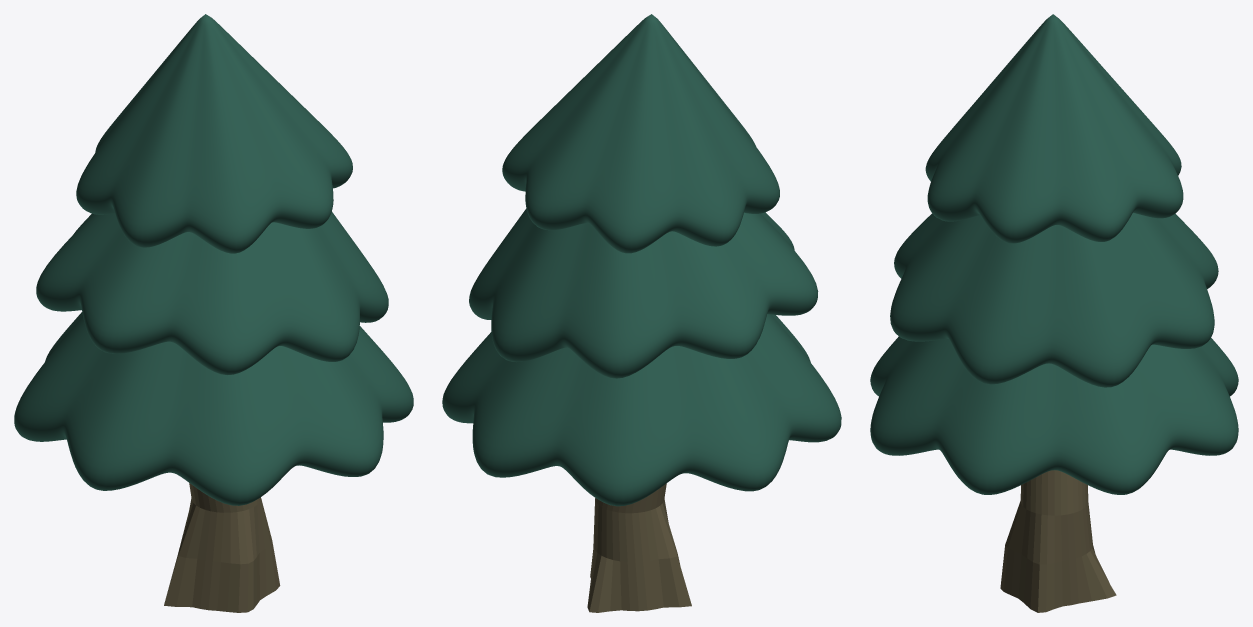
The model's file is tree2.fbx.
The picture shows the model from 3 angles, left to right: view 1: azimuth 30°, elevation 25°; view 2: azimuth 150°, elevation 25°; view 3: azimuth 270°, elevation 25°; orthographic projection. The views are drawn at different scales.
Parts seen in each view (by area): view 1: Circle, Cylinder.001; view 2: Circle, Cylinder.001; view 3: Circle, Cylinder.001.
Boxes of the visible parts, x1=… form: Circle: x1=14, y1=14, x2=413, y2=505; Cylinder.001: x1=164, y1=483, x2=280, y2=612; Circle: x1=442, y1=14, x2=841, y2=506; Cylinder.001: x1=587, y1=483, x2=691, y2=612; Circle: x1=870, y1=14, x2=1238, y2=494; Cylinder.001: x1=1000, y1=470, x2=1116, y2=612.
Size of the model in its own units: 205 by 349 by 205.
